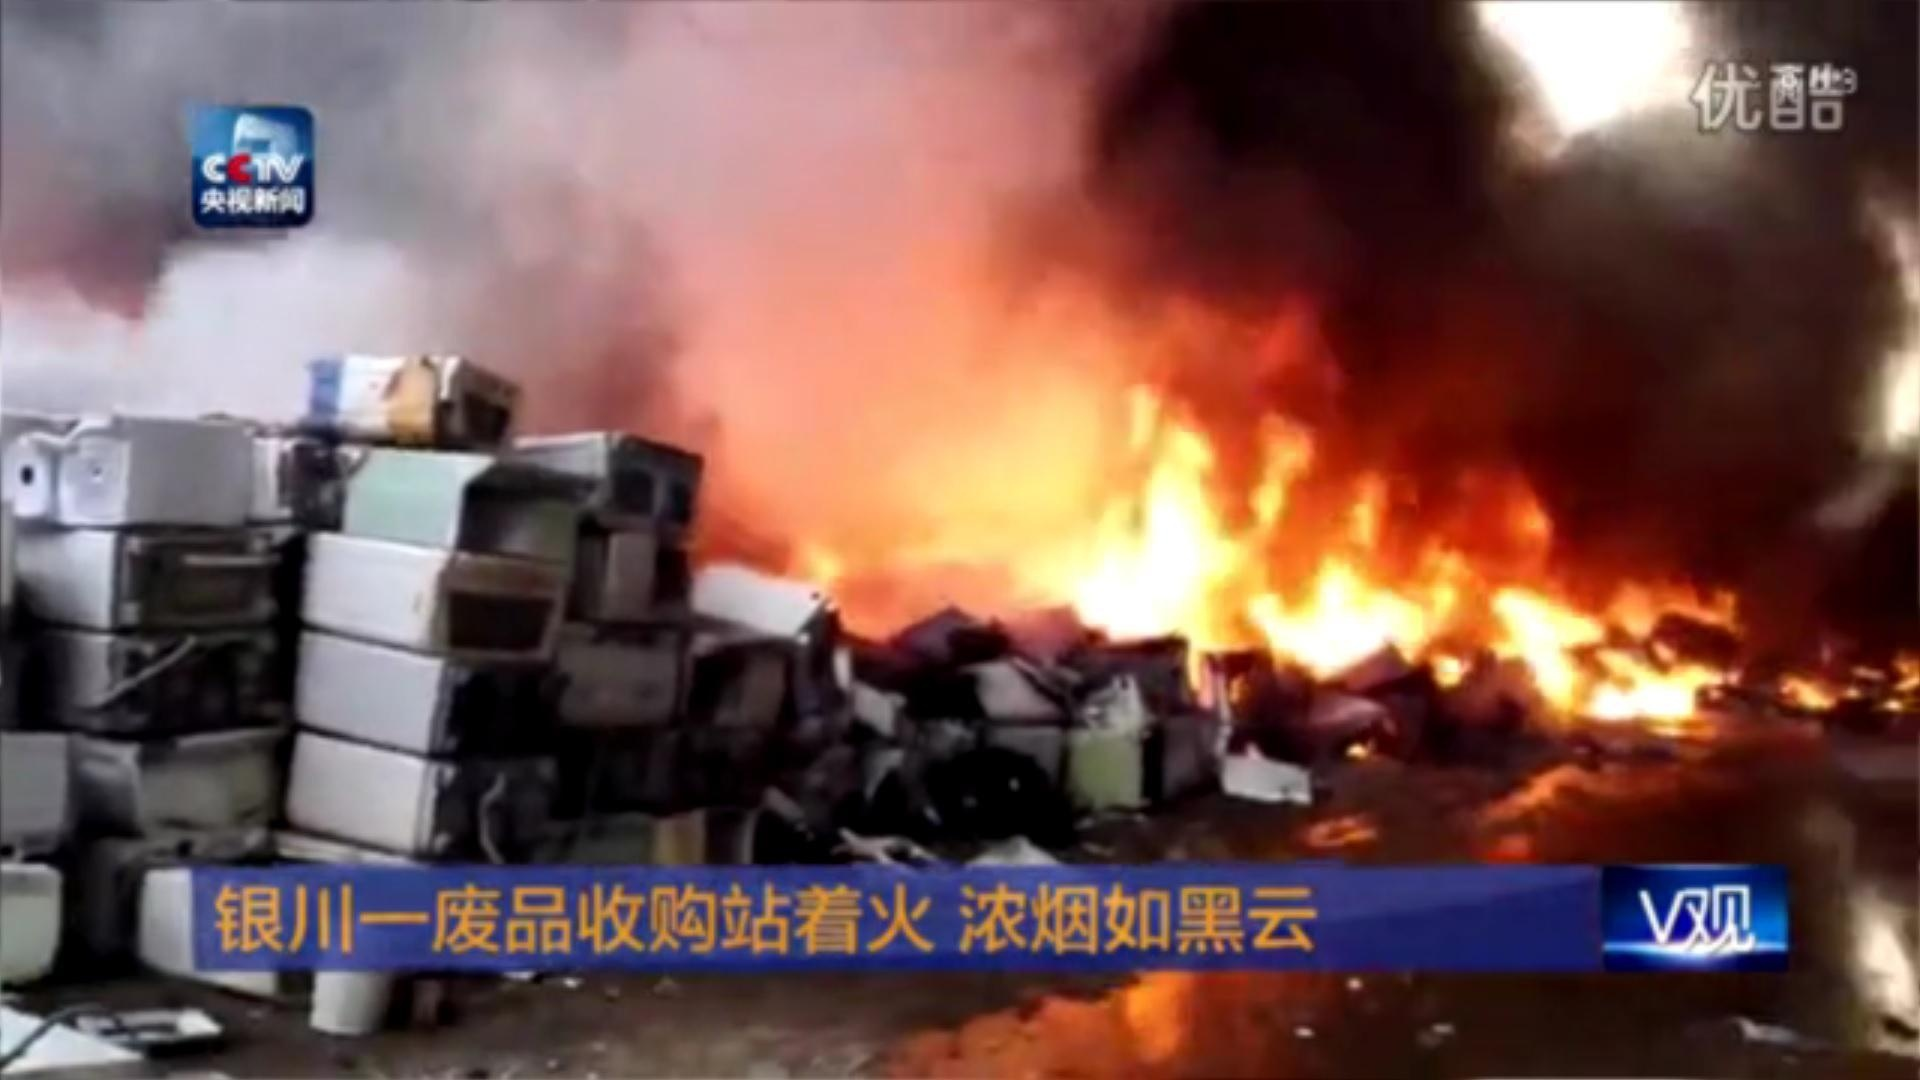fire: (1043, 396, 1735, 721)
